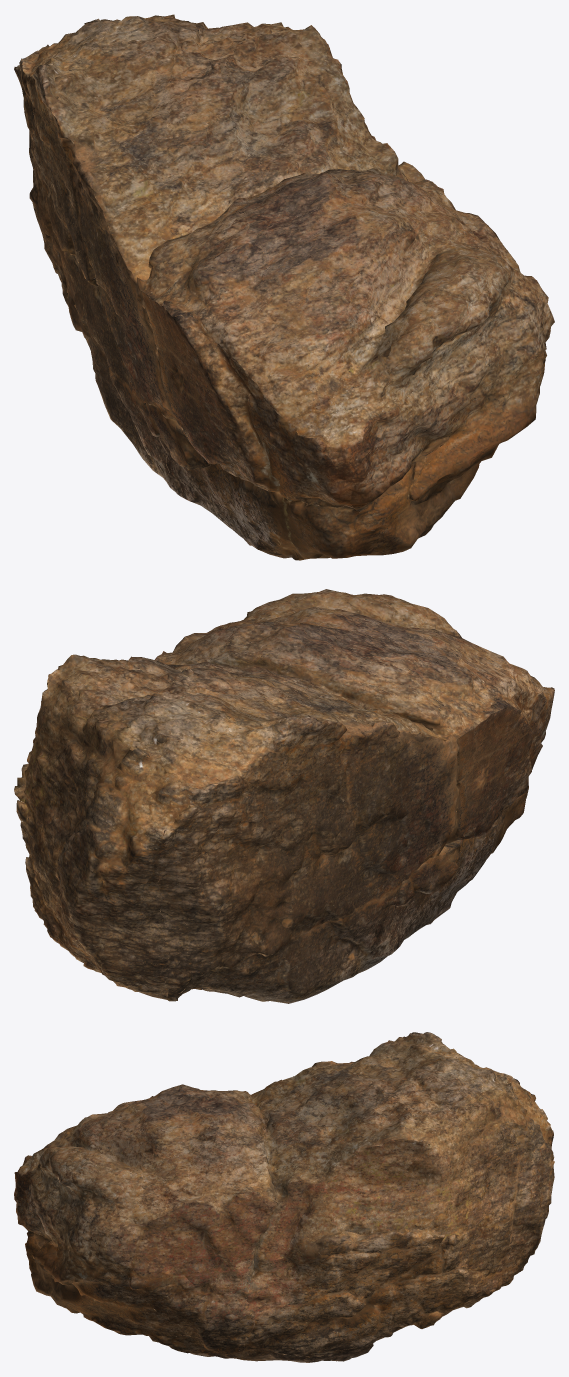
Rendered from namaqualand_boulder_06.glb.
3 views of the same model, one above another, from view 1: azimuth 30°, elevation 25°; view 2: azimuth 150°, elevation 25°; view 3: azimuth 270°, elevation 25° (orthographic). The views are drawn at different scales.
Parts seen in each view (by area): view 1: namaqualand_boulder_06; view 2: namaqualand_boulder_06; view 3: namaqualand_boulder_06.
Boxes of the visible parts, x1,y1,x2,y2 form: namaqualand_boulder_06: [14, 14, 554, 560]; namaqualand_boulder_06: [14, 589, 554, 1003]; namaqualand_boulder_06: [14, 1032, 554, 1362].
Bounding box in the file's own units: 0.674 × 0.652 × 1.21.
Materials: 1 (1 with a texture image).
